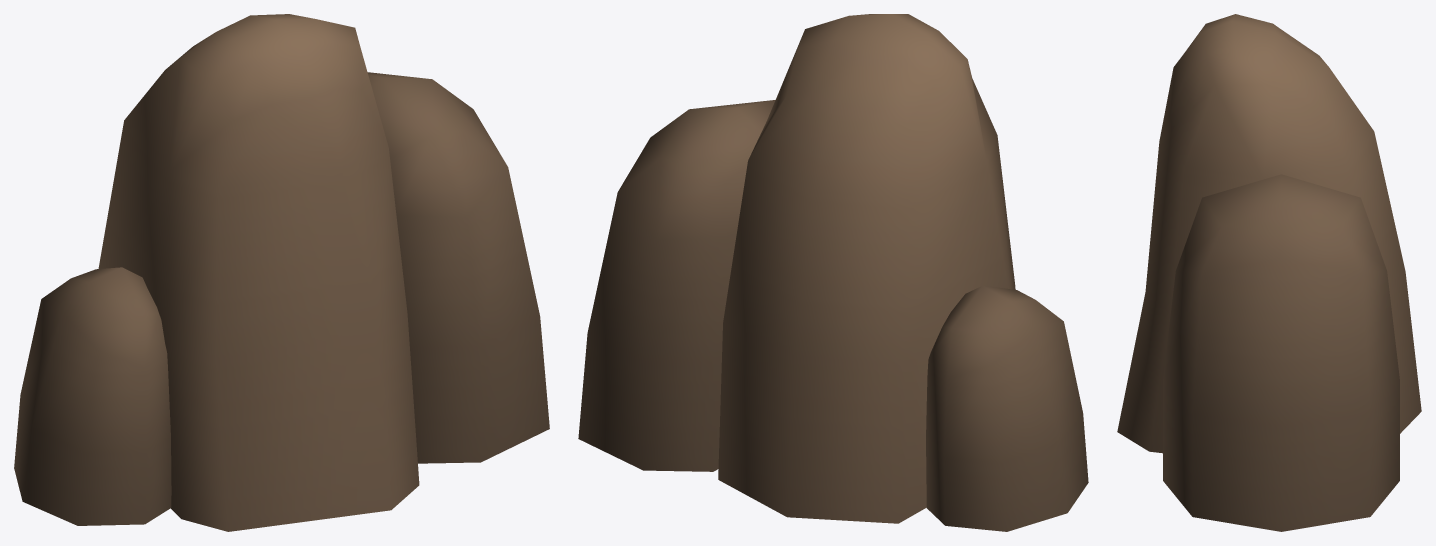
The model's file is Rock_03_A.fbx.
3 renders of one model, left to right at view 1: azimuth 30°, elevation 25°; view 2: azimuth 150°, elevation 25°; view 3: azimuth 270°, elevation 25°, orthographic. The views are drawn at different scales.
Visible parts, largest first — view 1: Rock_03_A; view 2: Rock_03_A; view 3: Rock_03_A.
Boxes of the visible parts, <box> form: Rock_03_A: <box>14,14,549,531</box>; Rock_03_A: <box>578,14,1088,531</box>; Rock_03_A: <box>1117,14,1421,531</box>.
Size of the model in its own units: 6213 by 5308 by 3752.
